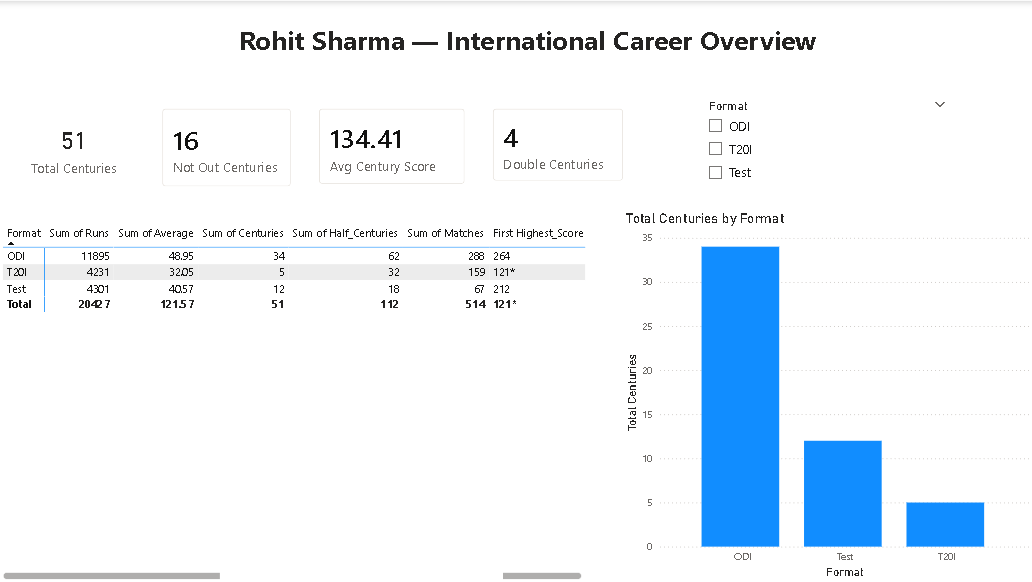

The page's visual inventory and layout, read from the dashboard file:
{"tool":"powerbi","page":{"name":"Career Overview.","canvas":[1280,720],"ordinal":0},"visuals":[{"type":"card","fields":{"Values":["rohit_sharma_centuries.Total Centuries"]},"box":[0,116.8,185.5,130.5],"z":0},{"type":"cardVisual","fields":{"Data":["rohit_sharma_centuries.Not Out Centuries"]},"box":[185.1,116.3,193.9,130.4],"z":1000},{"type":"cardVisual","fields":{"Data":["rohit_sharma_centuries.Avg Century Score"]},"box":[379.6,116.8,214.7,127.1],"z":2000},{"type":"cardVisual","fields":{"Data":["rohit_sharma_centuries.Double Centuries"]},"box":[593.9,116.3,195.6,123.4],"z":3000},{"type":"clusteredColumnChart","fields":{"Category":["rohit_sharma_centuries.Format"],"Y":["rohit_sharma_centuries.Total Centuries"]},"box":[770.2,259.1,509.3,460],"z":4000},{"type":"pivotTable","fields":{"Rows":["rohit_sharma_career_summary.Format"],"Values":["Sum(rohit_sharma_career_summary.Runs)","Sum(rohit_sharma_career_summary.Average)","Sum(rohit_sharma_career_summary.Centuries)","Sum(rohit_sharma_career_summary.Half_Centuries)","Sum(rohit_sharma_career_summary.Matches)","Min(rohit_sharma_career_summary.Highest_Score)"]},"box":[0,271.4,729.7,449.4],"z":5000},{"type":"slicer","fields":{"Values":["rohit_sharma_centuries.Format"]},"box":[865.4,116.3,317.2,126.9],"z":6000},{"type":"textbox","box":[273,563,350,156],"z":7000},{"type":"textbox","box":[273.1,20.6,781.5,65.3],"z":8000}]}

Visuals, with their boxes in screenshot pixels (x1, y1, x2, y2), scaled from the page's 1280x720 canvas onto the 1032x582 screenshot:
card - rohit_sharma_centuries.Total Centuries: <box>0,94,150,200</box>
cardVisual - rohit_sharma_centuries.Not Out Centuries: <box>149,94,306,199</box>
cardVisual - rohit_sharma_centuries.Avg Century Score: <box>306,94,479,197</box>
cardVisual - rohit_sharma_centuries.Double Centuries: <box>479,94,637,194</box>
clusteredColumnChart - rohit_sharma_centuries.Format x rohit_sharma_centuries.Total Centuries: <box>621,209,1031,581</box>
pivotTable - rohit_sharma_career_summary.Format x Sum(rohit_sharma_career_summary.Runs): <box>0,219,588,581</box>
slicer - rohit_sharma_centuries.Format: <box>698,94,953,197</box>
textbox: <box>220,455,502,581</box>
textbox: <box>220,17,850,69</box>
